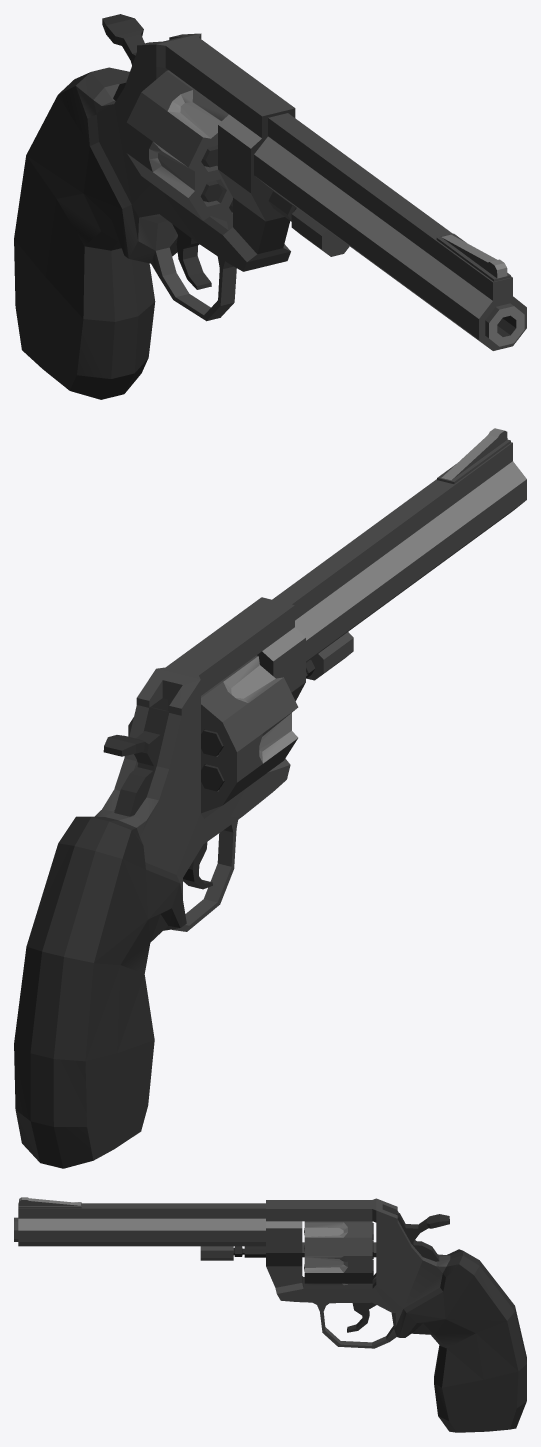
File: Revolver.FBX
3 renders of one model, top to bottom at view 1: azimuth 30°, elevation 25°; view 2: azimuth 150°, elevation 25°; view 3: azimuth 270°, elevation 25°, orthographic. The views are drawn at different scales.
Visible parts, largest first — view 1: Revolver; view 2: Revolver; view 3: Revolver.
Boxes of the visible parts, x1,y1,x2,y2 form: Revolver: (14, 14, 526, 399); Revolver: (14, 428, 526, 1168); Revolver: (14, 1197, 526, 1432).
Bounding box in the file's own units: 0.0373 × 0.1362 × 0.2756.
1 material, 1 textured.
